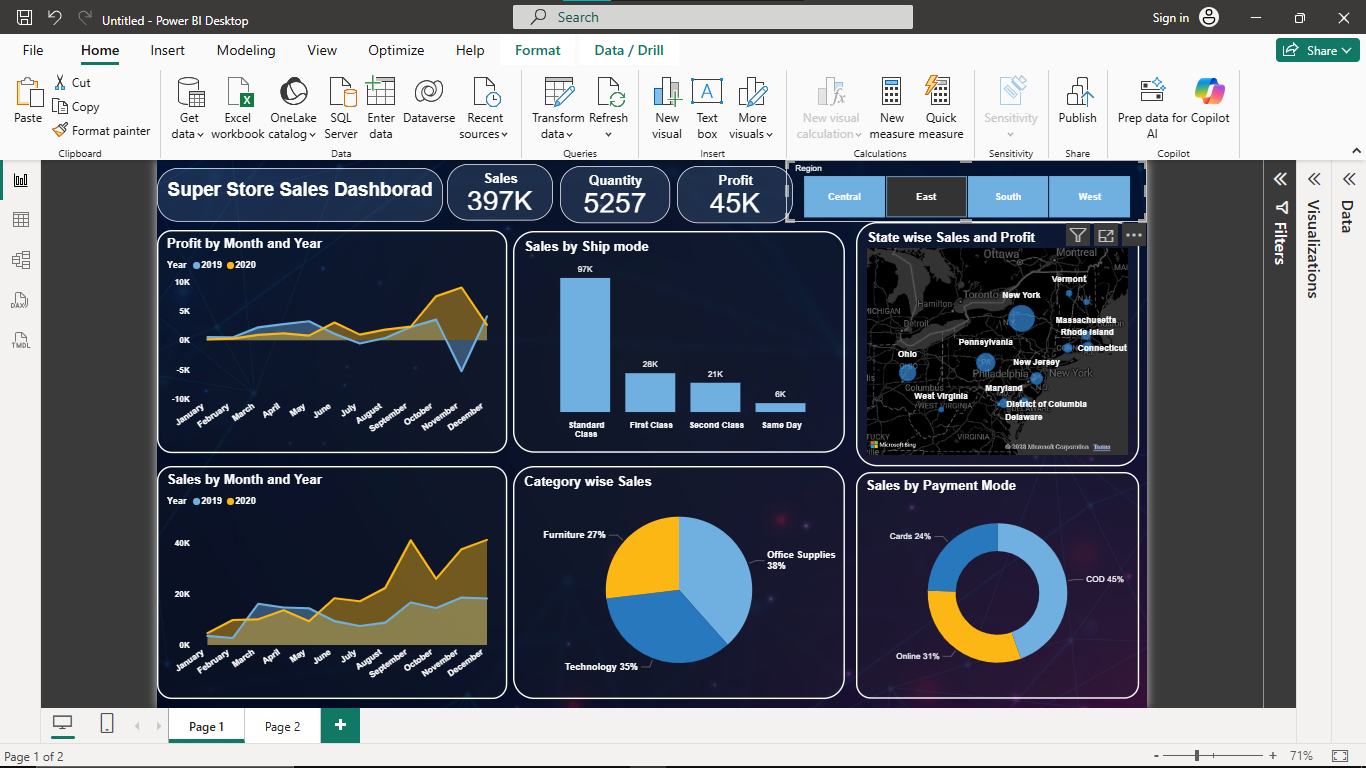

Layout of this report page (visuals, bound fields, positions):
{"tool":"powerbi","page":{"name":"Page 1","canvas":[1402,776],"ordinal":0},"visuals":[{"type":"pieChart","title":" Category  wise Sales ","fields":{"Category":["SuperStore_Sales_Dataset.Category"],"Y":["SuperStore_Sales_Dataset.Sales"]},"box":[504.1,433.3,470.1,329.9],"z":0},{"type":"columnChart","title":" Sales by Ship mode ","fields":{"Category":["SuperStore_Sales_Dataset.Ship Mode"],"Y":["SuperStore_Sales_Dataset.Sales"]},"box":[504.1,100.5,470.1,314.4],"z":2000},{"type":"areaChart","title":"  Sales by Month and Year","fields":{"Category":["SuperStore_Sales_Dataset.Order Date.Variation.Date Hierarchy.Month","SuperStore_Sales_Dataset.Order Date.Variation.Date Hierarchy.Day"],"Y":["SuperStore_Sales_Dataset.Sales"],"Series":["SuperStore_Sales_Dataset.Order Date.Variation.Date Hierarchy.Year"]},"box":[0,433.3,495.6,329.9],"z":3000},{"type":"areaChart","title":" Profit by Month and Year","fields":{"Category":["SuperStore_Sales_Dataset.Order Date.Variation.Date Hierarchy.Month","SuperStore_Sales_Dataset.Order Date.Variation.Date Hierarchy.Day"],"Y":["SuperStore_Sales_Dataset.Profit"],"Series":["SuperStore_Sales_Dataset.Order Date.Variation.Date Hierarchy.Year"]},"box":[0,99.1,495.6,315.8],"z":4000},{"type":"map","title":"State wise Sales and Profit","fields":{"Category":["SuperStore_Sales_Dataset.State"],"Size":["SuperStore_Sales_Dataset.Sales"]},"box":[989.8,87.8,400.7,345.5],"z":5000},{"type":"donutChart","title":" Sales by Payment Mode","fields":{"Category":["SuperStore_Sales_Dataset.Payment Mode"],"Y":["SuperStore_Sales_Dataset.Sales"]},"box":[989.8,441.8,400.7,321.4],"z":6000},{"type":"slicer","fields":{"Values":["SuperStore_Sales_Dataset.Region"]},"box":[890.7,0,511.2,87.8],"z":8000},{"type":"textbox","box":[0,11.2,405,76.2],"z":9000},{"type":"card","title":"Sales","fields":{"Values":["SuperStore_Sales_Dataset.Sales"]},"box":[410,5.7,150,80],"z":10000},{"type":"card","title":"Quantity","fields":{"Values":["SuperStore_Sales_Dataset.Quantity"]},"box":[570,8.6,155.7,81.4],"z":11000},{"type":"card","title":"Profit","fields":{"Values":["SuperStore_Sales_Dataset.Profit"]},"box":[735.7,8.6,164.3,81.4],"z":12000}]}

Visuals, with their boxes on the page's 1402x776 design canvas (x1, y1, x2, y2). These are canvas units, not pixel positions in the 1366x768 screenshot, which may show the page scaled, cropped or inside an application window:
" Category  wise Sales " pieChart: {"x1": 504, "y1": 433, "x2": 974, "y2": 763}
" Sales by Ship mode " columnChart: {"x1": 504, "y1": 100, "x2": 974, "y2": 415}
"  Sales by Month and Year" areaChart: {"x1": 0, "y1": 433, "x2": 496, "y2": 763}
" Profit by Month and Year" areaChart: {"x1": 0, "y1": 99, "x2": 496, "y2": 415}
"State wise Sales and Profit" map: {"x1": 990, "y1": 88, "x2": 1390, "y2": 433}
" Sales by Payment Mode" donutChart: {"x1": 990, "y1": 442, "x2": 1390, "y2": 763}
slicer - SuperStore_Sales_Dataset.Region: {"x1": 891, "y1": 0, "x2": 1402, "y2": 88}
textbox: {"x1": 0, "y1": 11, "x2": 405, "y2": 87}
"Sales" card: {"x1": 410, "y1": 6, "x2": 560, "y2": 86}
"Quantity" card: {"x1": 570, "y1": 9, "x2": 726, "y2": 90}
"Profit" card: {"x1": 736, "y1": 9, "x2": 900, "y2": 90}
